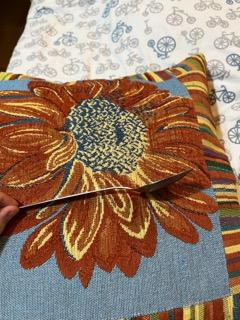spoon: (12, 166, 197, 213)
